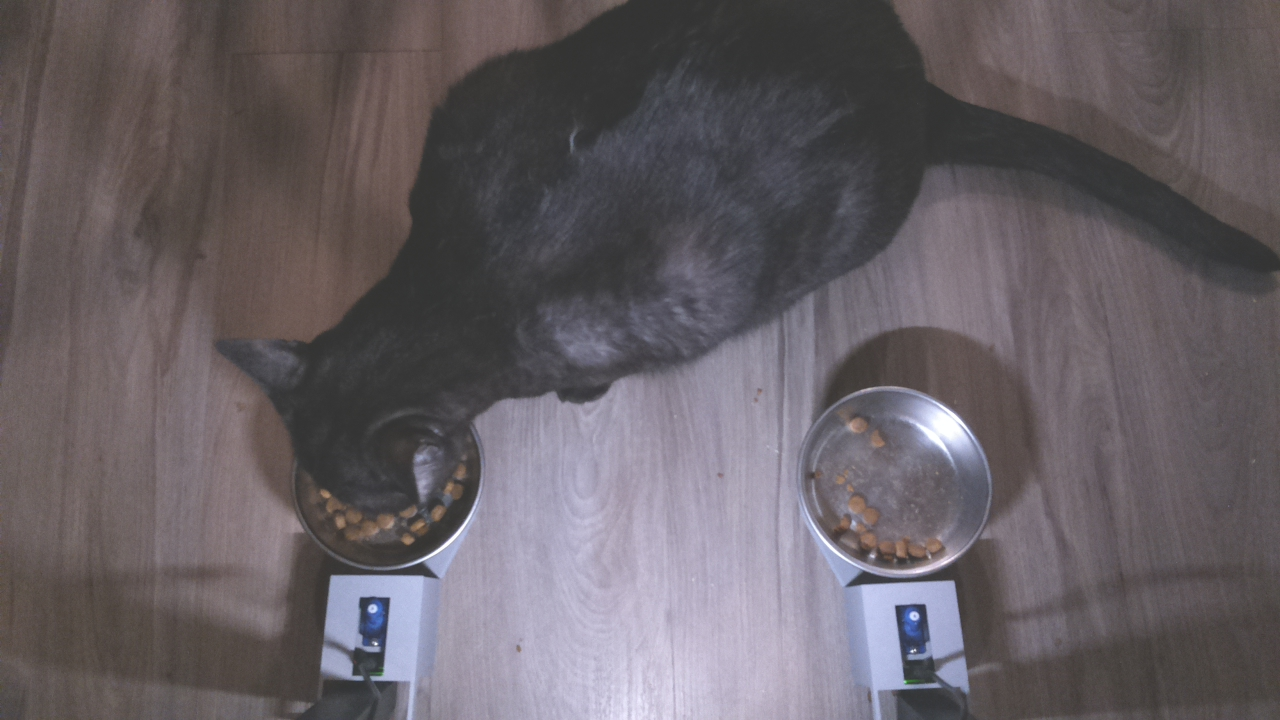open_bowl: (783, 380, 1004, 586)
saki_eating: (210, 280, 493, 569)
